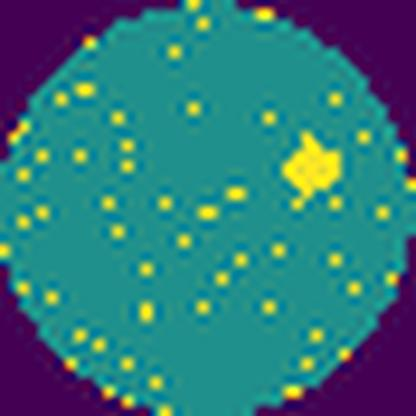Edge-Loc: (281, 128, 342, 212)
